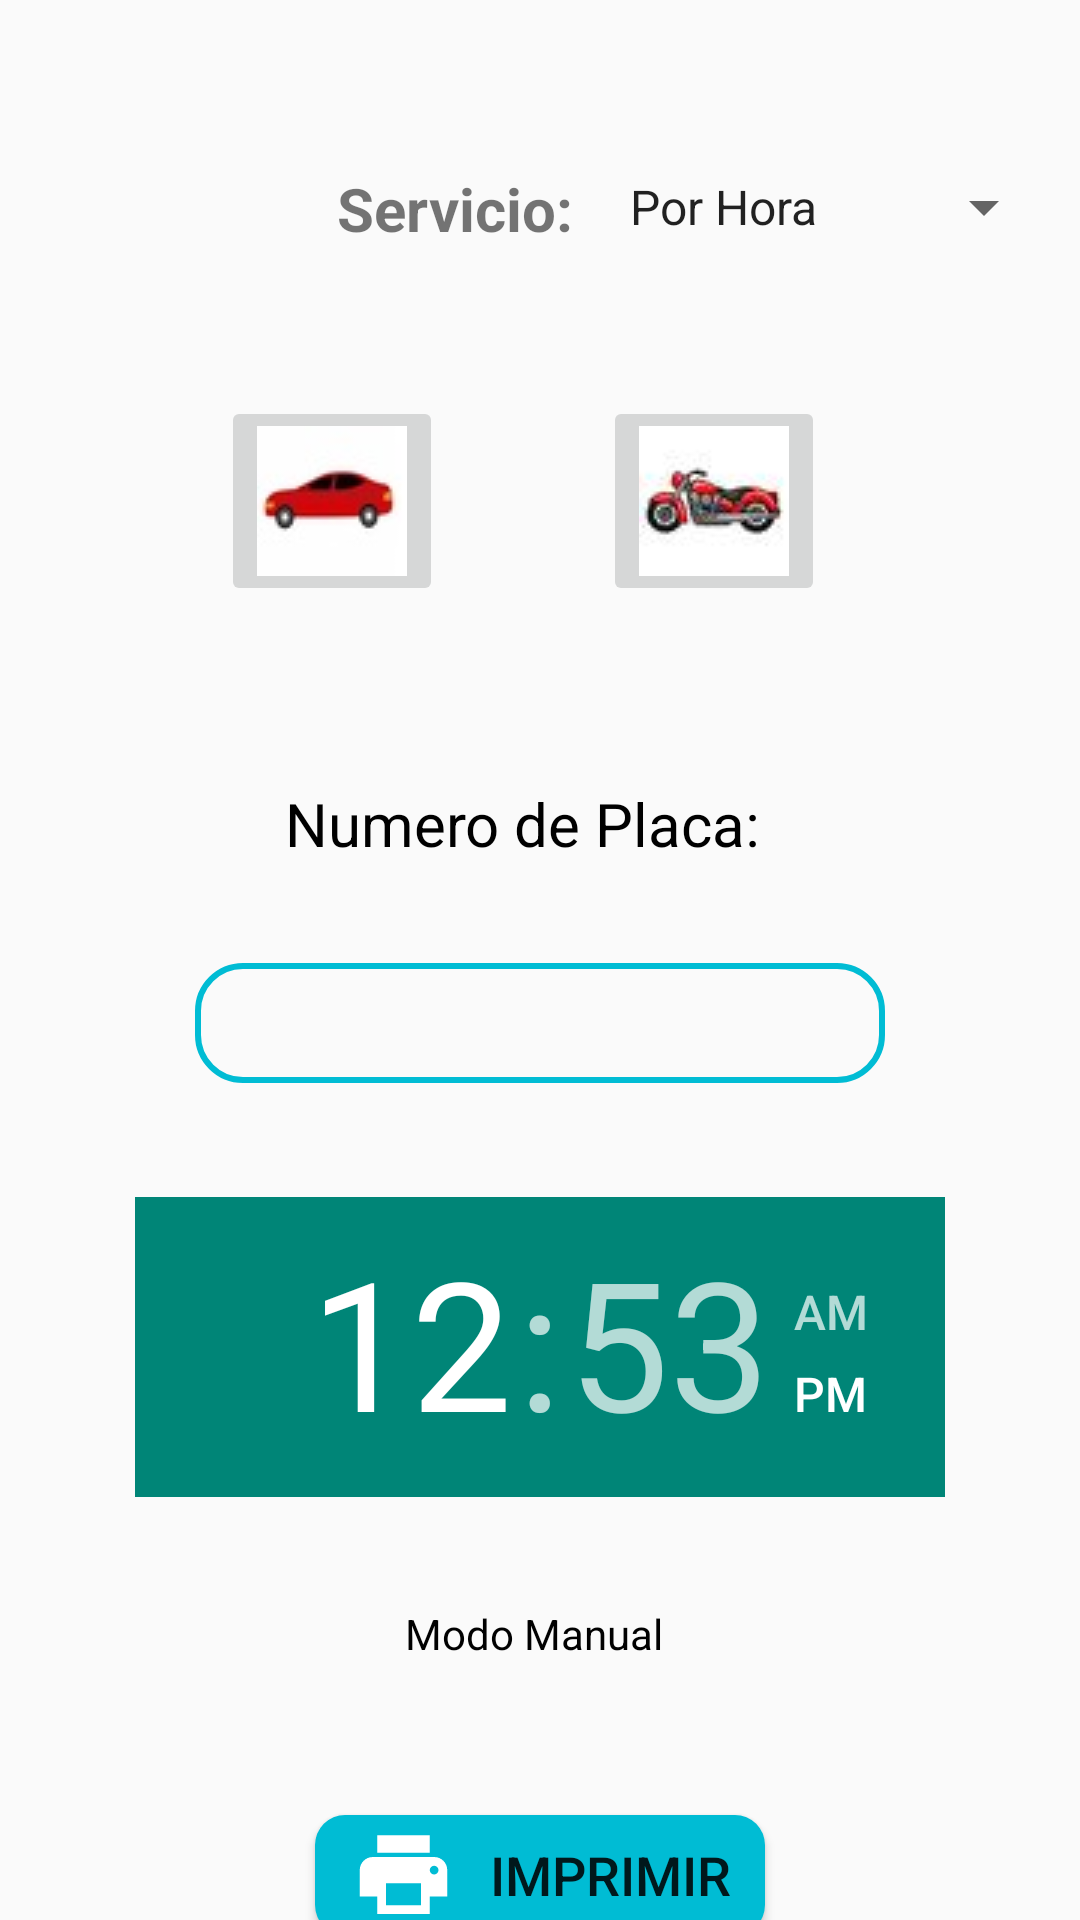

Icons on this 1080px×1920px Android screen, each with the point to tap as (x=x, y=y):
auto estacionamiento: (x=332, y=501)
moto estacionamiento: (x=714, y=501)
